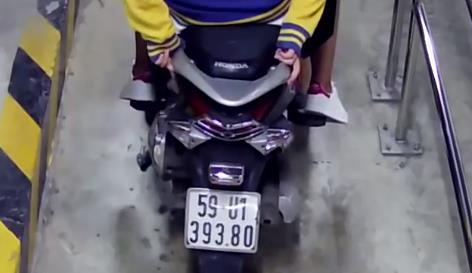lisence: (185, 188, 260, 253)
